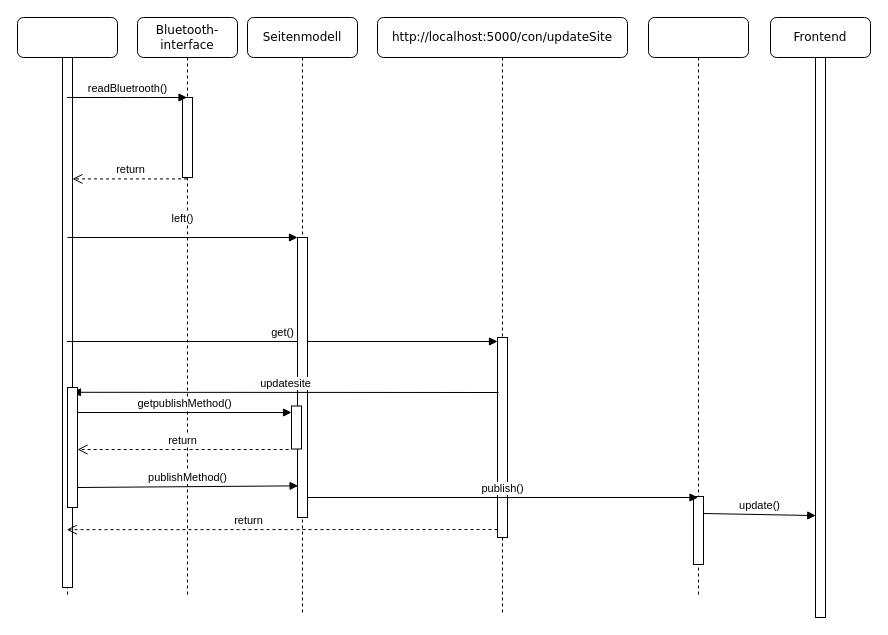
This 888x635 diagram has some shape labels left out. Here are the shapes that lost their labels. From the top down, the box of each, then its label:
(16, 16, 118, 598): Controller
(648, 16, 748, 598): SSE
